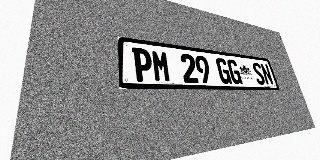2: (180, 53, 199, 83)
9: (194, 55, 212, 83)
G: (215, 58, 232, 84), (226, 59, 243, 84)
M: (151, 50, 172, 82)
N: (260, 63, 274, 85)
P: (132, 47, 154, 82)
S: (251, 62, 266, 85)
